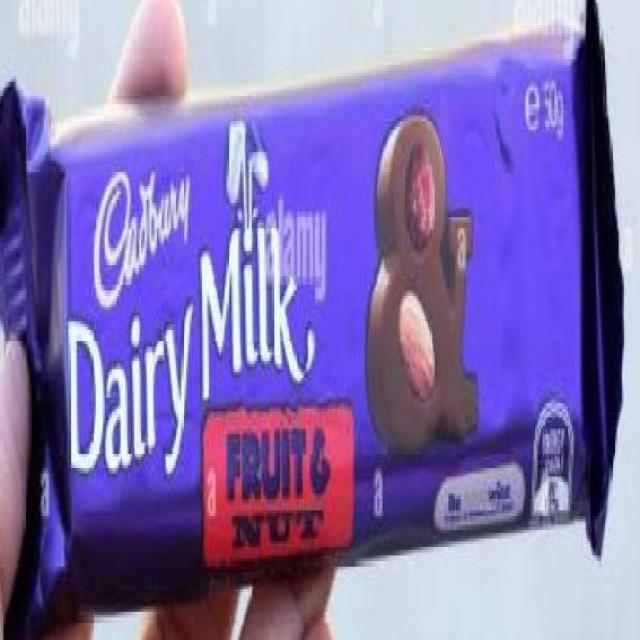Dry Waste: (0, 2, 624, 632)
